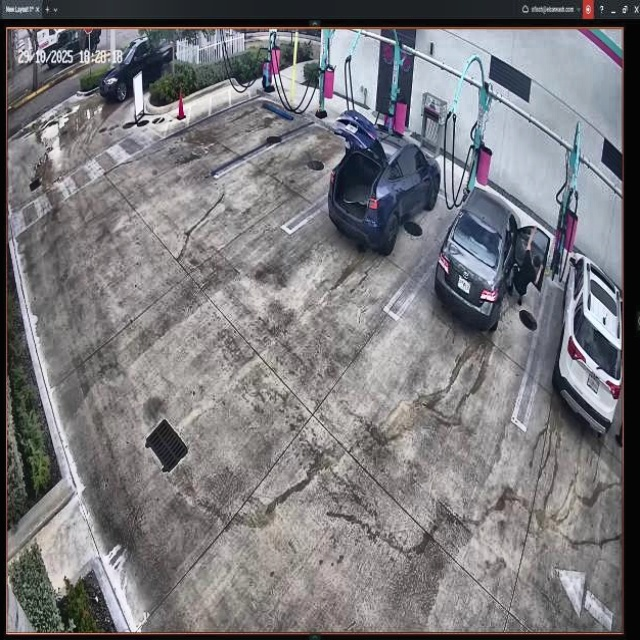Car: (329, 109, 441, 247), (436, 191, 544, 328)
